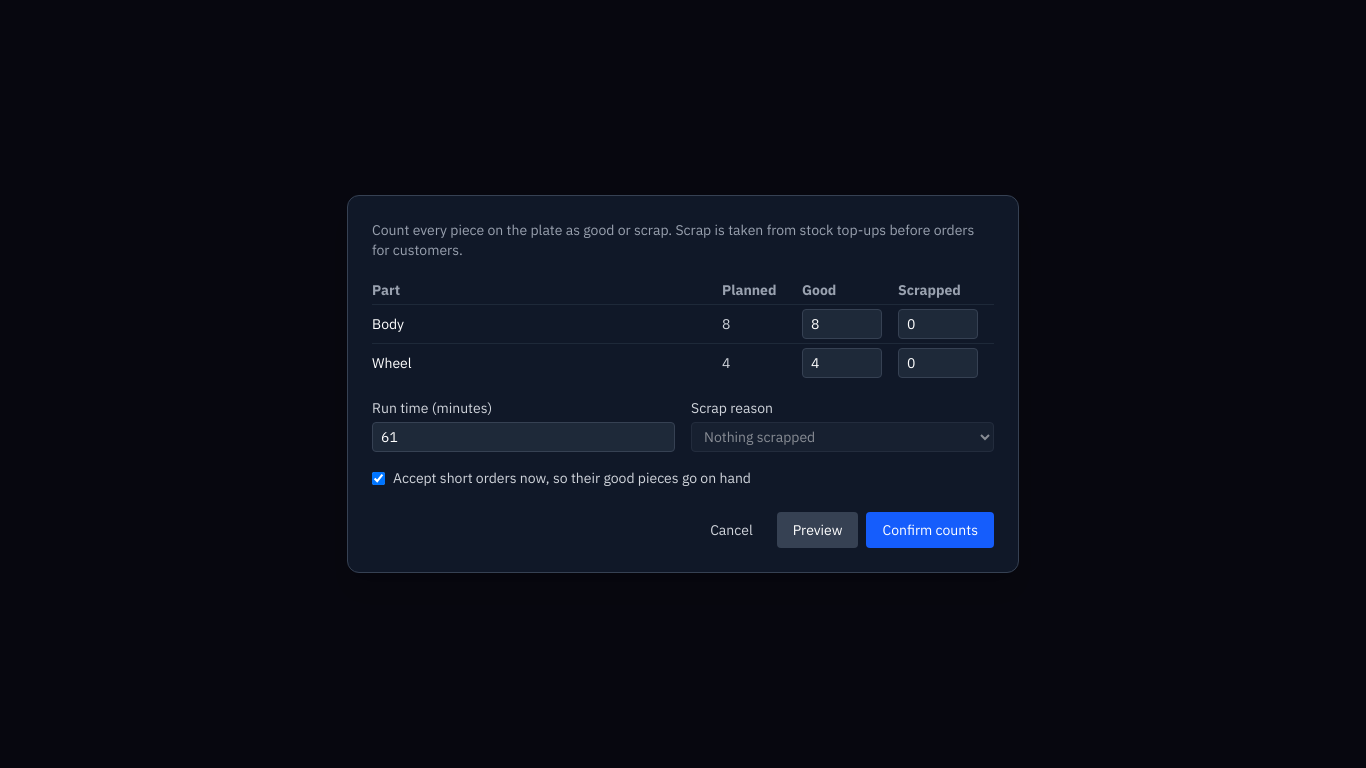
ConfirmBatchCountsModal › previews with a dry run and shows what would happen
Click the button "Preview": (818, 530) [777,512,858,548]
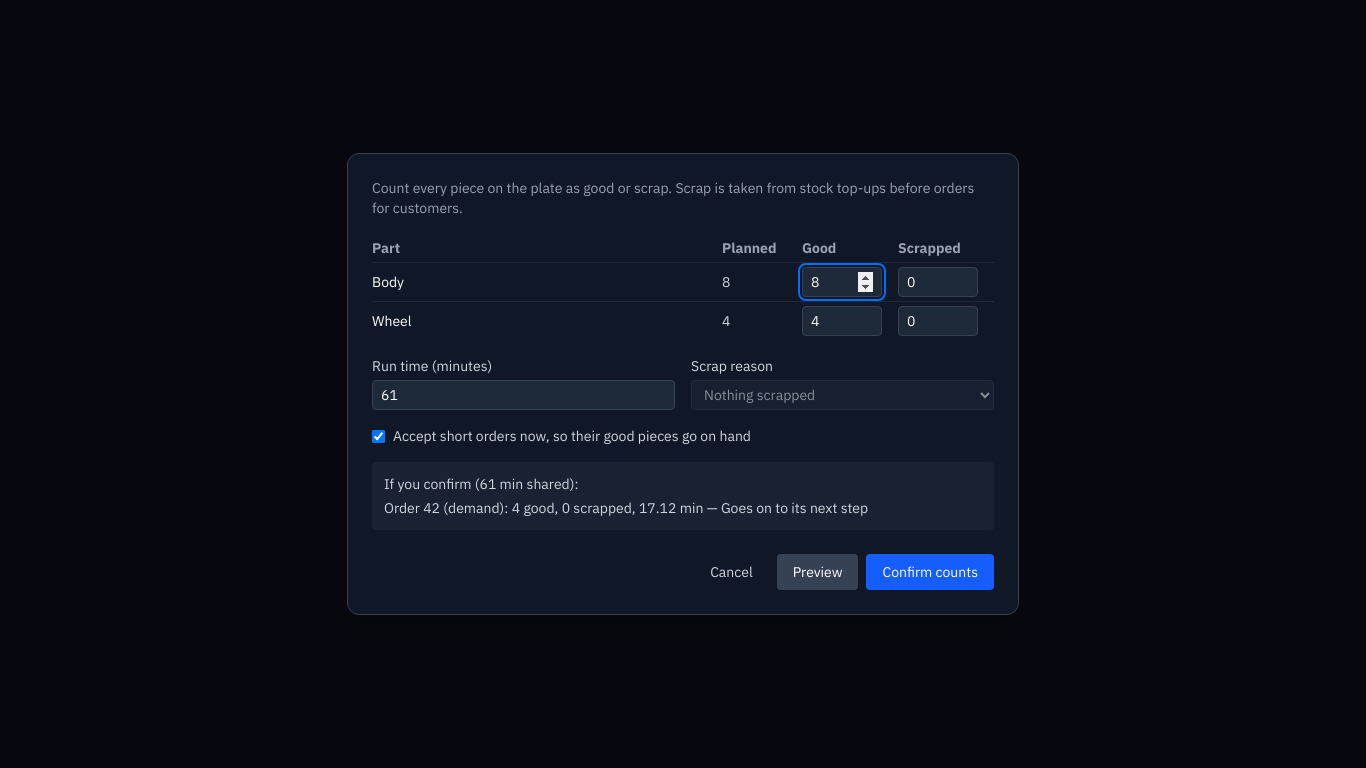
Result: the list item "Goes on to its next step" is shown at [721,499,868,517]
